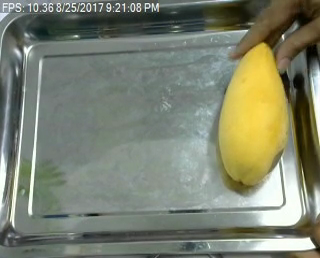Mango: (215, 41, 291, 187)
